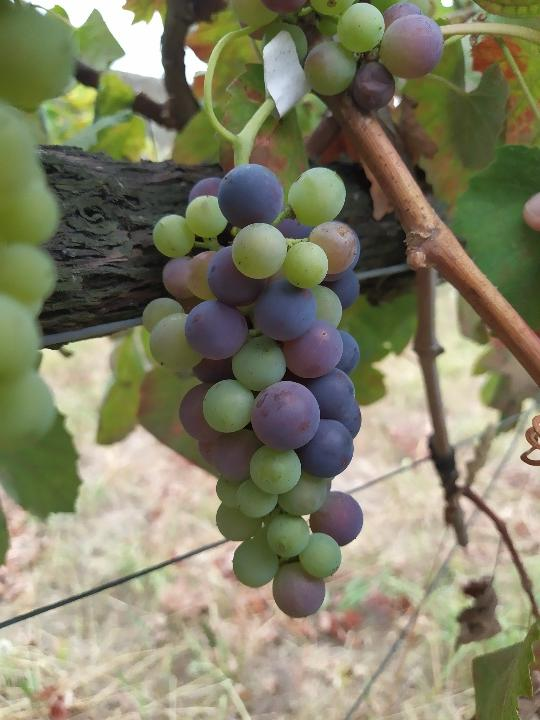grape: (140, 162, 366, 621)
